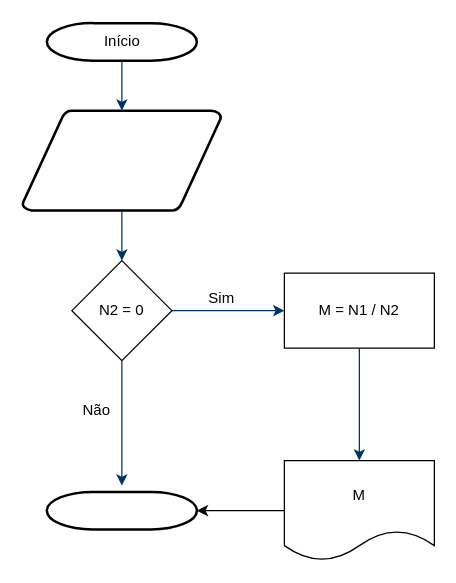
The diagram is 456 pixels wide and 583 high, and some of its shapes have lost their labels. The box of each missing label's shape, as (x1, y1, x2, y2) in pixels:
Fim: (45, 490, 198, 530)
N1, N2: (21, 109, 222, 211)
